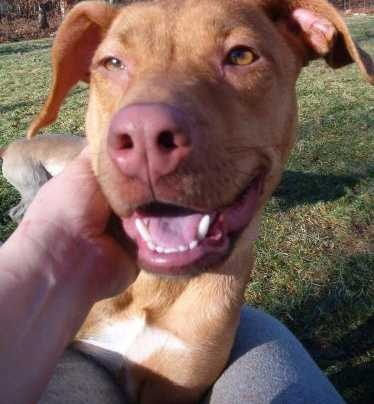dog: (19, 0, 374, 331)
